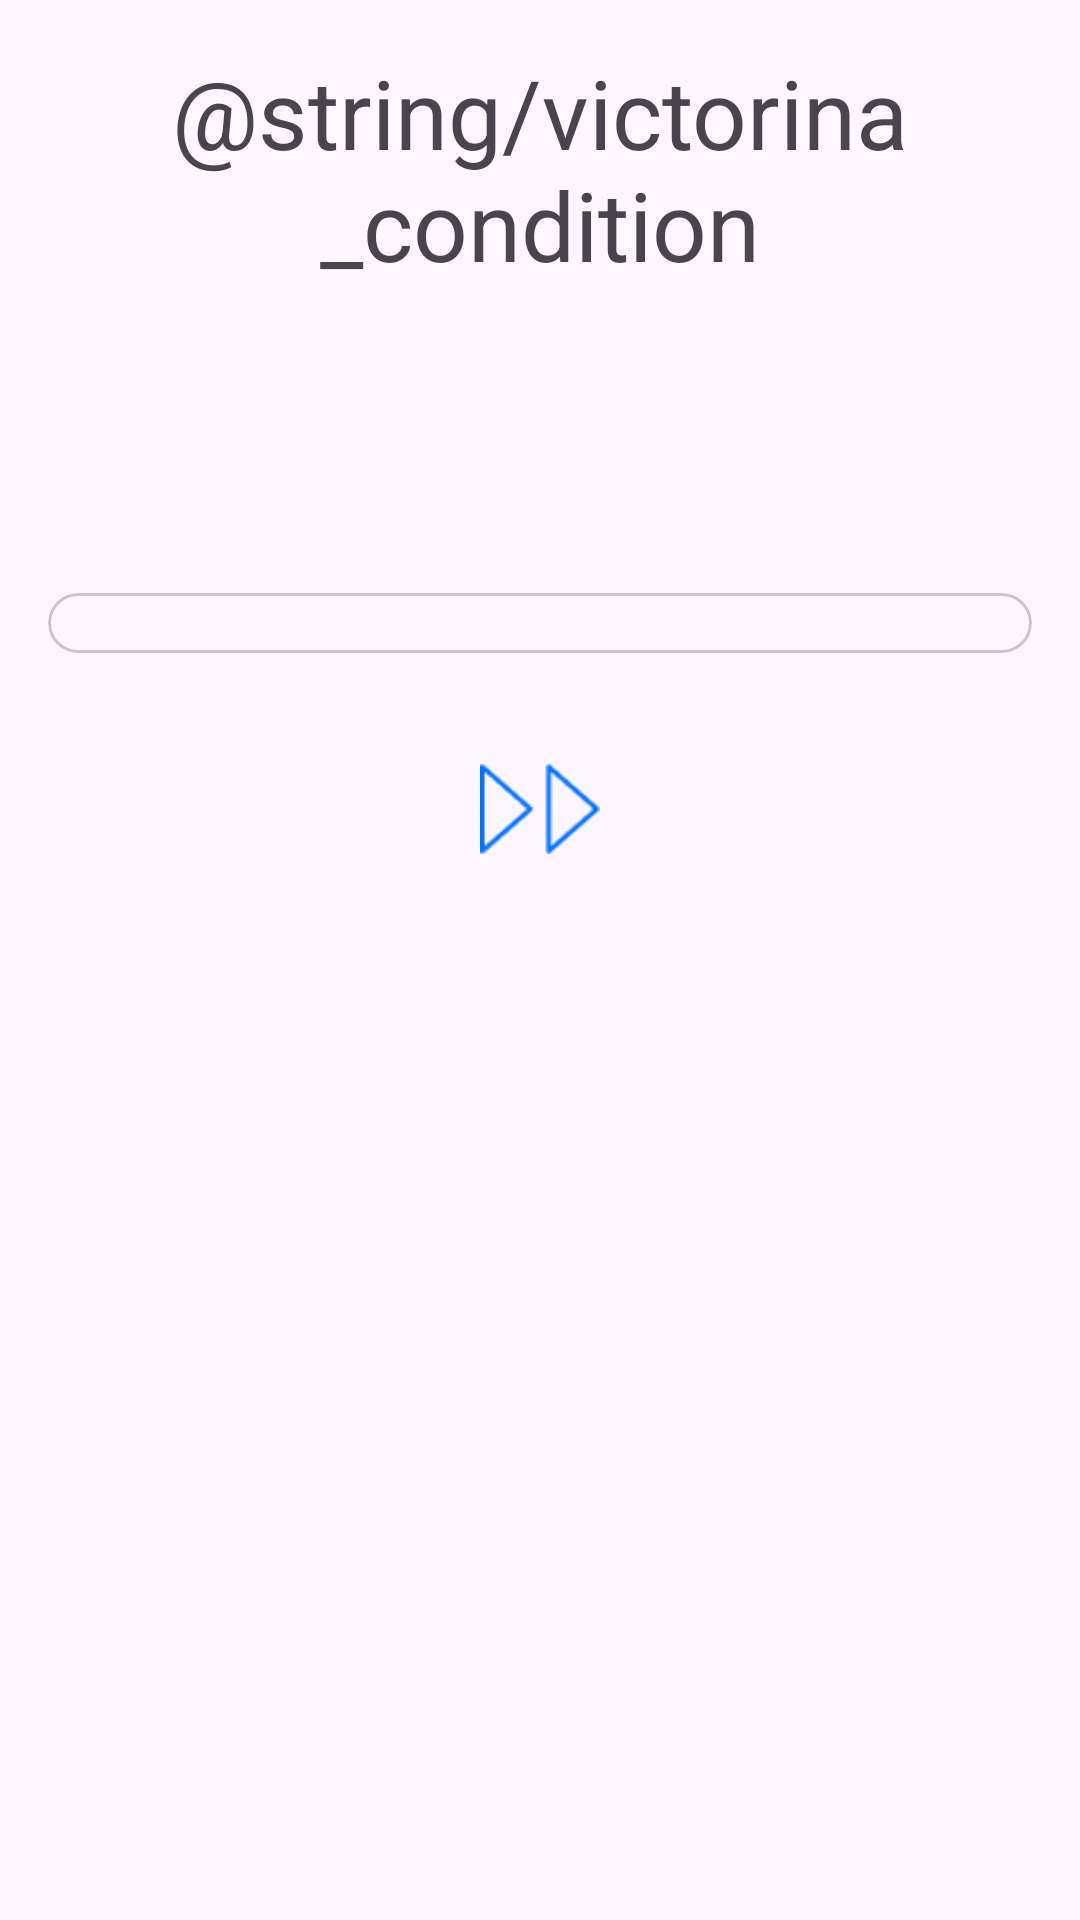

Point at icon controls on the screen. Image size 1080*1920, points as (x=x, y=y).
next: (x=540, y=809)
